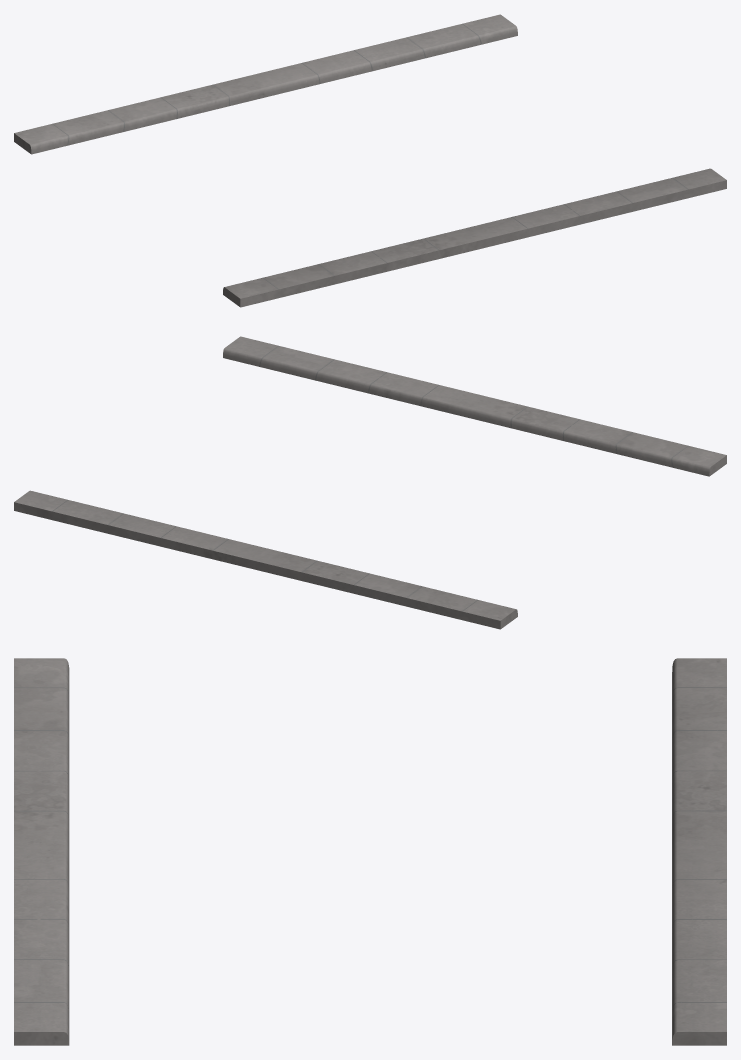
File: SideWalks_Short.fbx
The picture shows the model from 3 angles, top to bottom: view 1: azimuth 30°, elevation 25°; view 2: azimuth 150°, elevation 25°; view 3: azimuth 270°, elevation 25°; orthographic projection. The views are drawn at different scales.
Parts seen in each view (by area): view 1: SideWalks_Short; view 2: SideWalks_Short; view 3: SideWalks_Short.
Boxes of the visible parts, left/top/right/bottom form: SideWalks_Short: left=14, top=14, right=726, bottom=307; SideWalks_Short: left=14, top=336, right=726, bottom=629; SideWalks_Short: left=14, top=658, right=726, bottom=1045.
Size of the model in its own units: 701 by 565 by 11.97.
